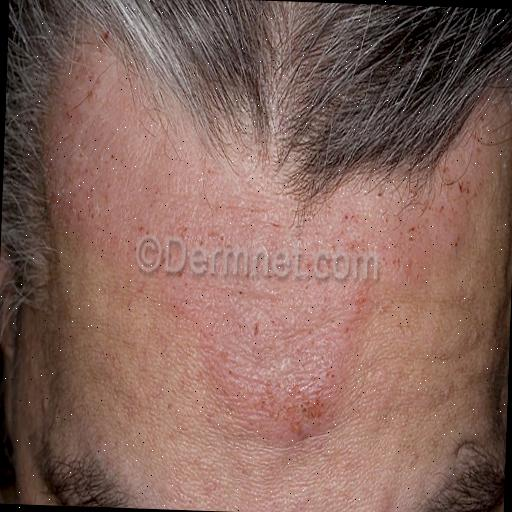Skin_Lesion: (264, 379, 335, 454), (212, 294, 276, 364), (288, 294, 344, 366)
